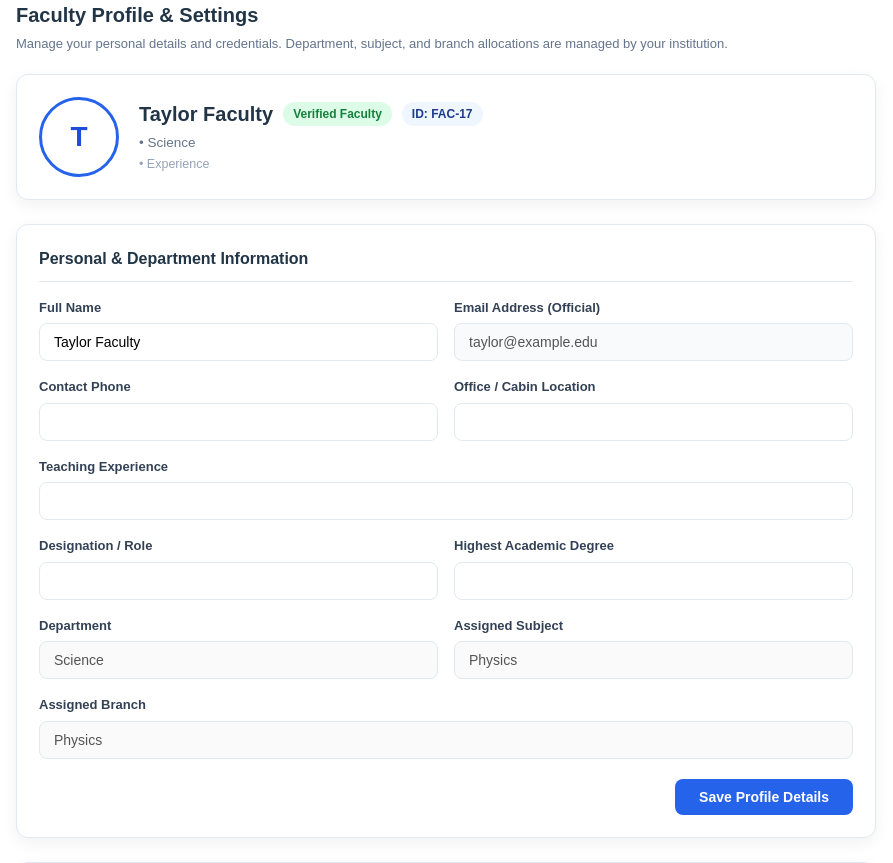
Faculty profile persistence › saves editable details through the API and updates the dashboard profile
Step 1. Replace the text in the field labelled "Full Name" with "Taylor A. Faculty" → (238, 342), box x1=39 y1=323 x2=438 y2=361
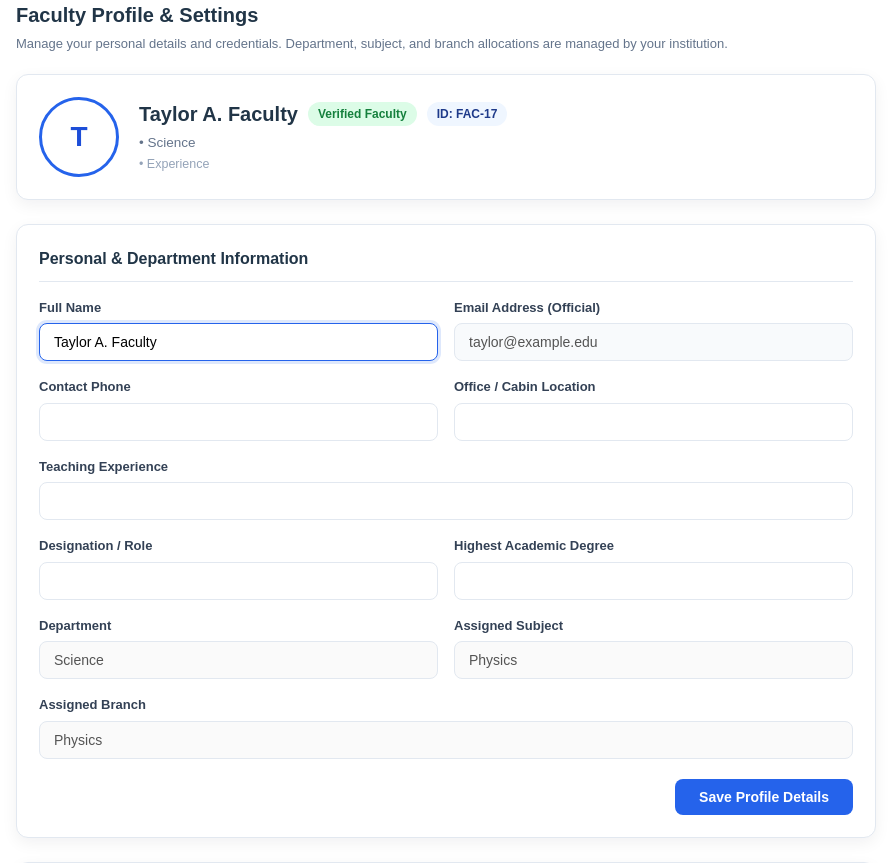
Step 2. Type "5551234567" into the field labelled "Contact Phone" → (238, 422), box x1=39 y1=402 x2=438 y2=440
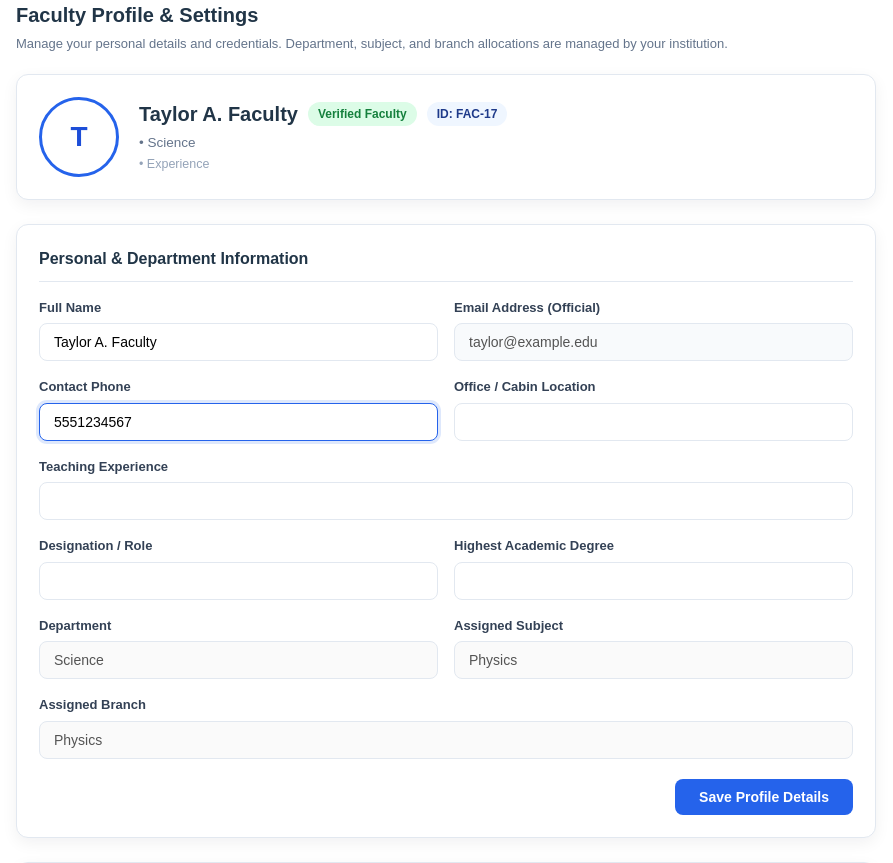
Step 3. Click the button "Save Profile Details" → (764, 796), box x1=675 y1=778 x2=853 y2=814
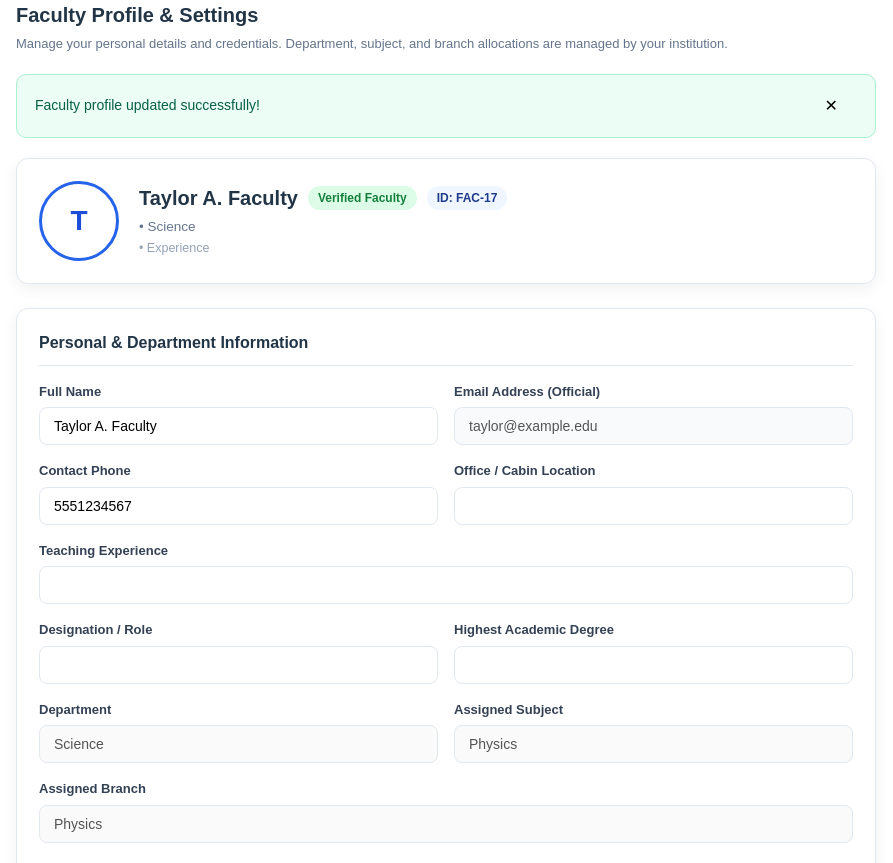
Expected: the field labelled "Assigned Subject" is disabled, x1=454 y1=725 x2=853 y2=763
Expected: the text "Faculty profile updated successfully!" is shown, x1=35 y1=95 x2=260 y2=116
